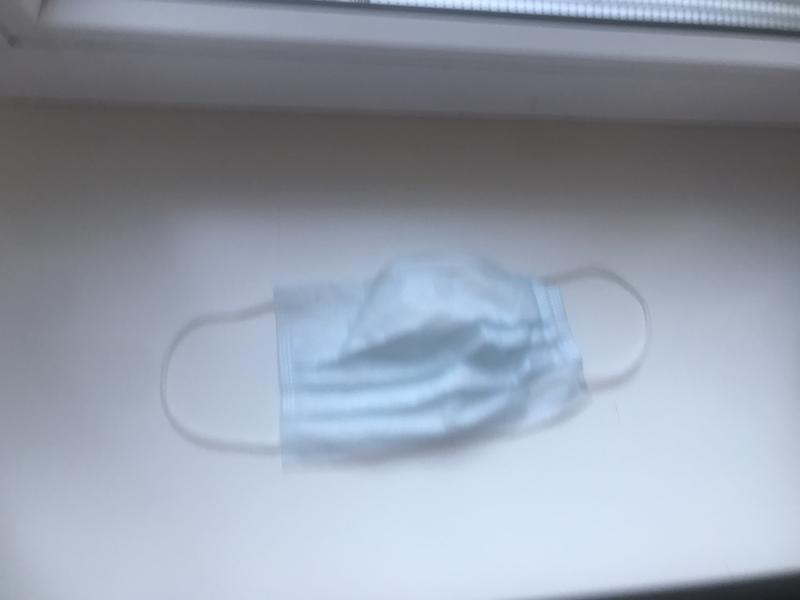medical_mask: (158, 253, 654, 458)
